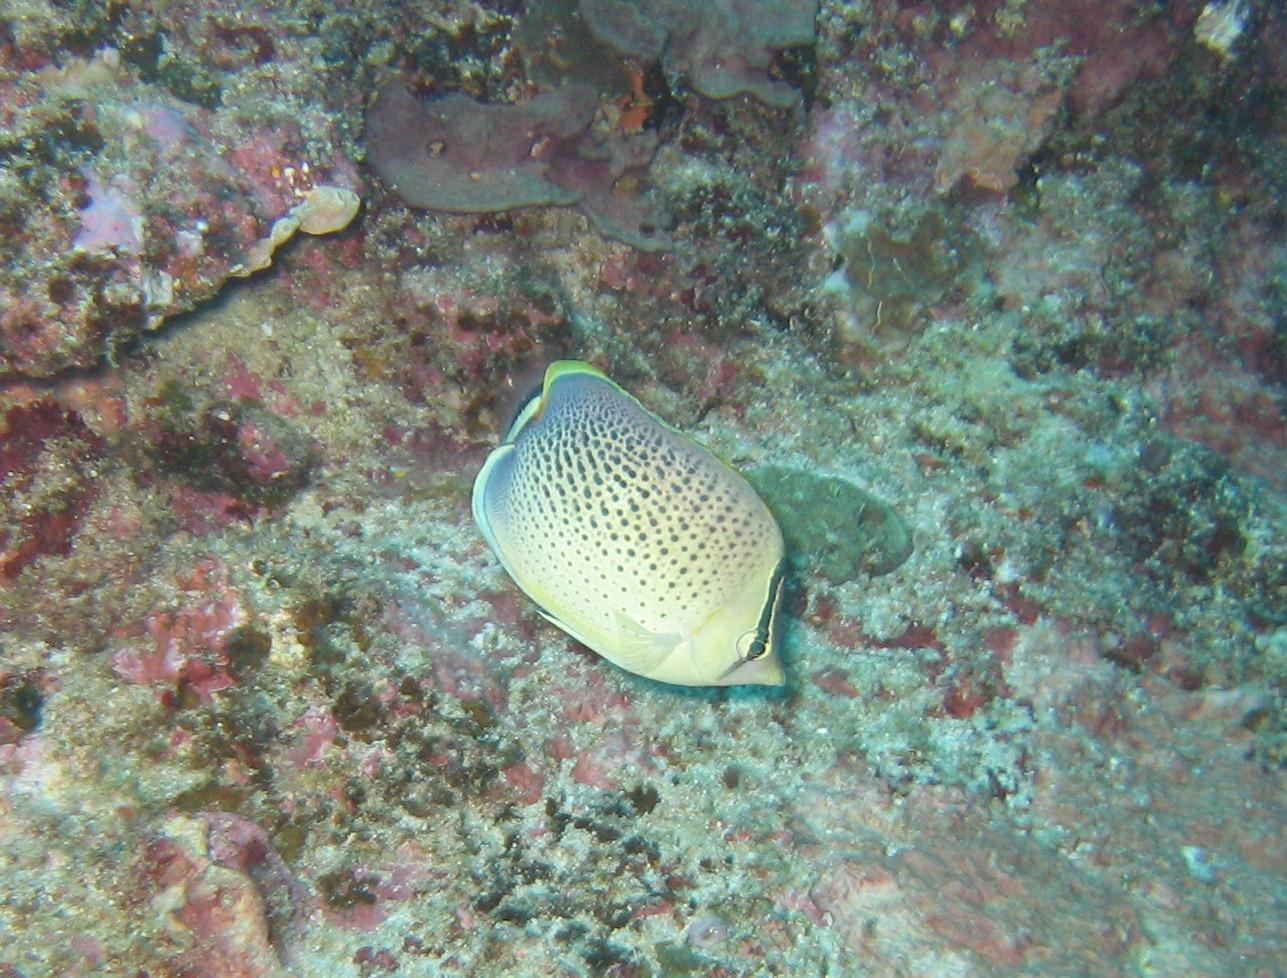Fish: (440, 344, 845, 715)
